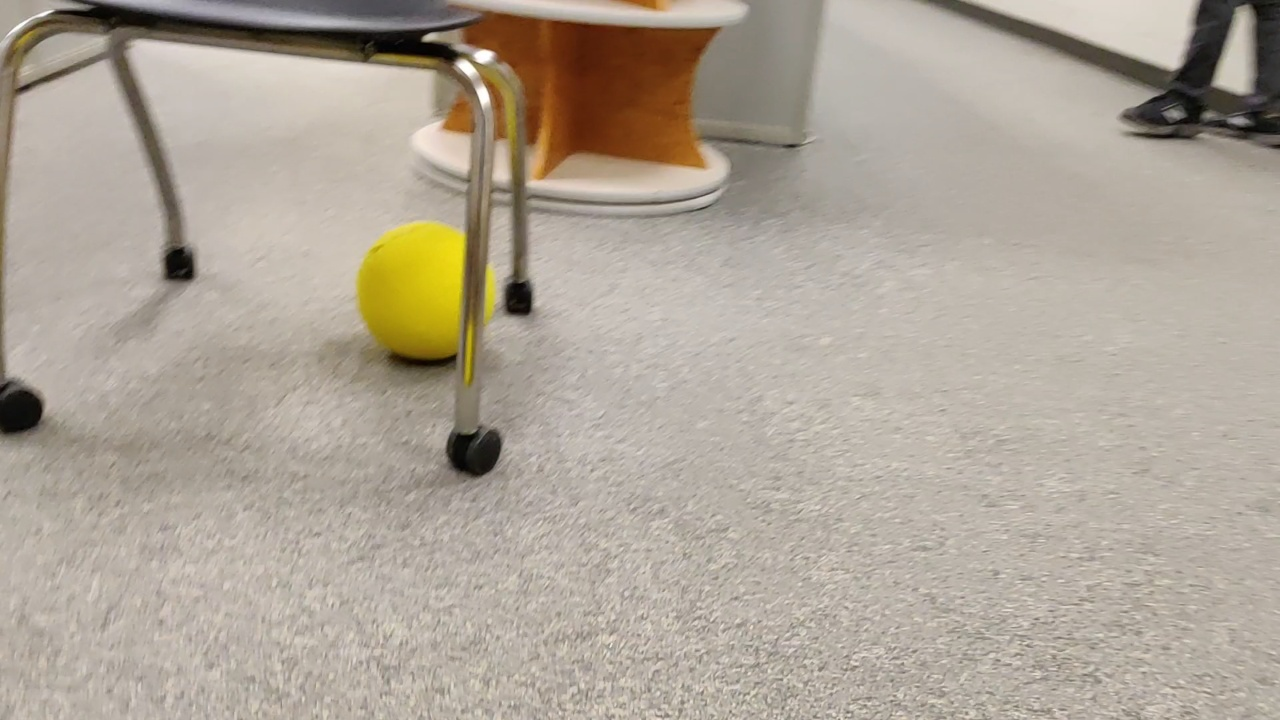Ball: (358, 221, 496, 361)
